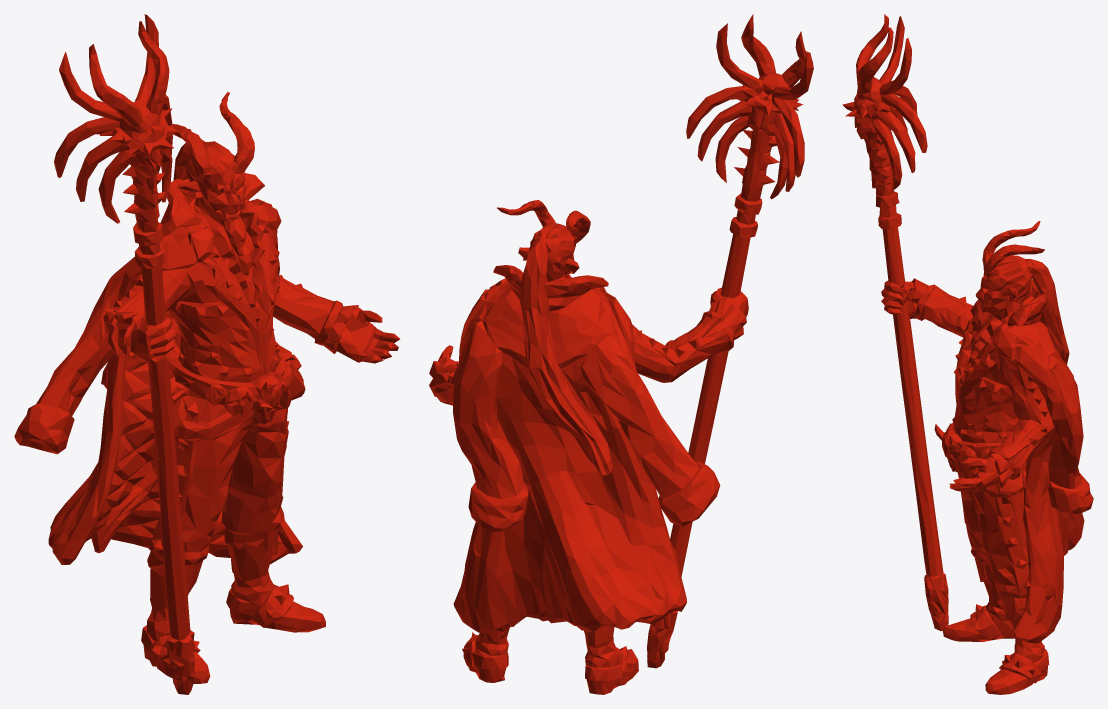
The model's file is warlock1.obj.
3 renders of one model, left to right at view 1: azimuth 30°, elevation 25°; view 2: azimuth 150°, elevation 25°; view 3: azimuth 270°, elevation 25°, orthographic. The views are drawn at different scales.
Visible parts, largest first — view 1: warlock1; view 2: warlock1; view 3: warlock1.
Boxes of the visible parts, box(x1,y1,x2,y2) form: warlock1: box(14, 14, 399, 694); warlock1: box(429, 14, 813, 694); warlock1: box(842, 14, 1093, 694).
Size of the model in its own units: 3.99 by 7.23 by 2.88.
